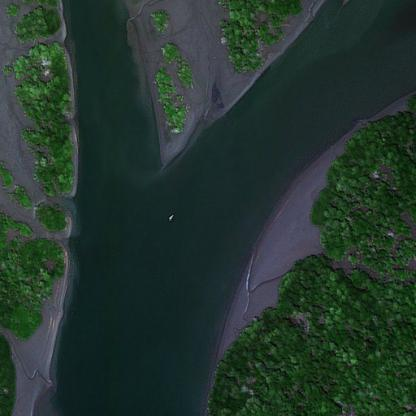ship: (164, 209, 176, 222)
